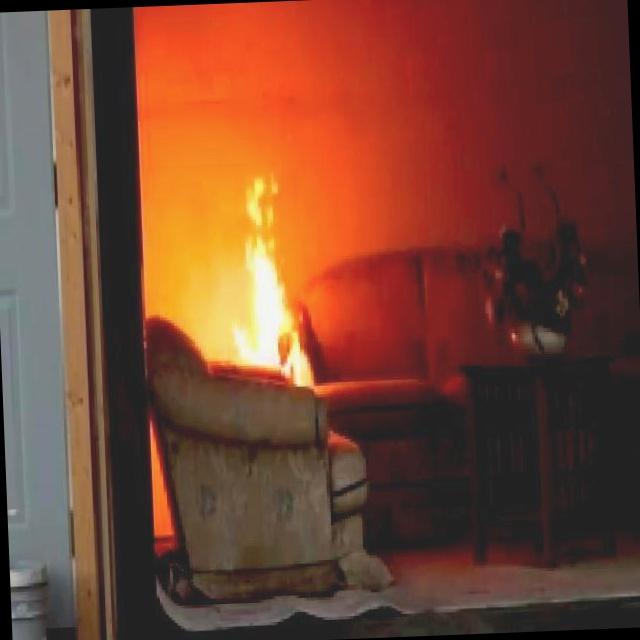fire: (222, 157, 319, 380)
